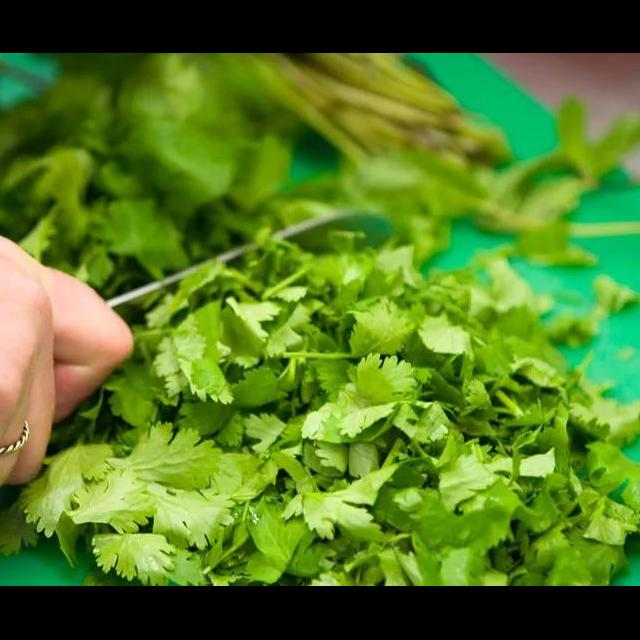cilantro: (168, 274, 594, 576)
